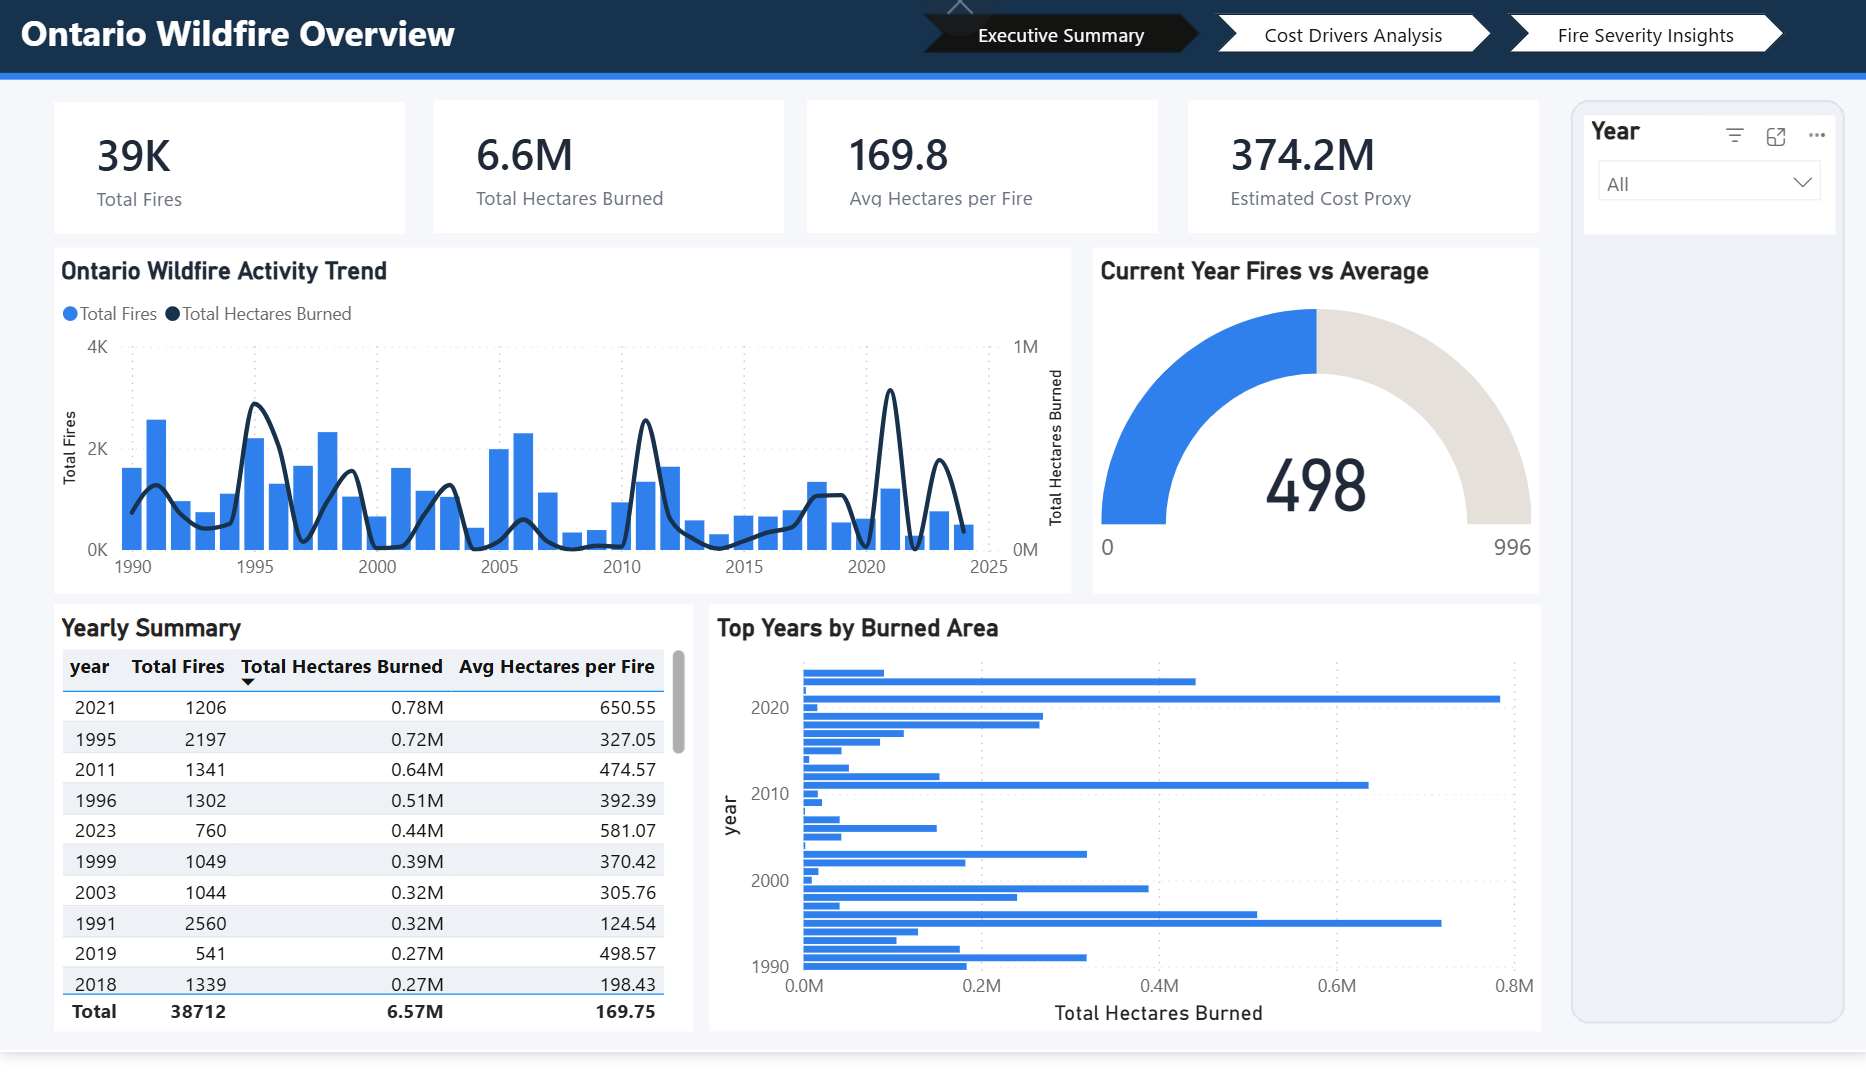

The dashboard page shown, as its layout file describes it:
{"tool":"powerbi","page":{"name":"Executive Summary","canvas":[1280,720],"ordinal":0},"visuals":[{"type":"textbox","box":[9.4,0,501.7,48.2],"z":0},{"type":"cardVisual","fields":{"Data":["measures_.Total Fires"]},"box":[37.2,70.3,240,90],"z":1000},{"type":"slicer","title":"Year","fields":{"Values":["Dim_Year.year"]},"box":[1084.2,78.5,172.2,81.3],"z":2000},{"type":"lineClusteredColumnComboChart","title":"Ontario Wildfire Activity Trend","fields":{"Category":["Dim_Year.year"],"Y":["measures_.Total Fires"],"Y2":["measures_.Total Hectares Burned"]},"box":[37.2,169.4,695.7,236.9],"z":3000},{"type":"gauge","title":"Current Year Fires vs Average","fields":{"Y":["measures_.Current Year Fires"],"TargetValue":["measures_.Average Fires Across Years"]},"box":[748,169.4,304.4,236.9],"z":4000},{"type":"tableEx","title":"Yearly Summary","fields":{"Values":["Dim_Year.year","measures_.Total Fires","measures_.Total Hectares Burned","measures_.Avg Hectares per Fire"]},"box":[37.2,413.3,436.7,292],"z":5000},{"type":"clusteredBarChart","title":"Top Years by Burned Area","fields":{"Category":["Dim_Year.year"],"Y":["measures_.Total Hectares Burned"]},"box":[484.9,413.3,568.9,292],"z":6000},{"type":"pageNavigator","box":[630.9,9.6,591,27.6],"z":7000},{"type":"cardVisual","fields":{"Data":["measures_.Total Hectares Burned"]},"box":[296.2,68.9,239.7,90.9],"z":8000},{"type":"cardVisual","fields":{"Data":["measures_.Avg Hectares per Fire"]},"box":[552.4,68.9,239.7,90.9],"z":9000},{"type":"cardVisual","fields":{"Data":["measures_.Estimated Cost Proxy"]},"box":[812.8,68.9,239.7,90.9],"z":10000}]}

Visuals, with their boxes on the page's 1280x720 design canvas (x1, y1, x2, y2). These are canvas units, not pixel positions in the 1866x1091 screenshot, which may show the page scaled, cropped or inside an application window:
textbox: detection(9, 0, 511, 48)
cardVisual - measures_.Total Fires: detection(37, 70, 277, 160)
"Year" slicer: detection(1084, 78, 1256, 160)
"Ontario Wildfire Activity Trend" lineClusteredColumnComboChart: detection(37, 169, 733, 406)
"Current Year Fires vs Average" gauge: detection(748, 169, 1052, 406)
"Yearly Summary" tableEx: detection(37, 413, 474, 705)
"Top Years by Burned Area" clusteredBarChart: detection(485, 413, 1054, 705)
pageNavigator: detection(631, 10, 1222, 37)
cardVisual - measures_.Total Hectares Burned: detection(296, 69, 536, 160)
cardVisual - measures_.Avg Hectares per Fire: detection(552, 69, 792, 160)
cardVisual - measures_.Estimated Cost Proxy: detection(813, 69, 1052, 160)
